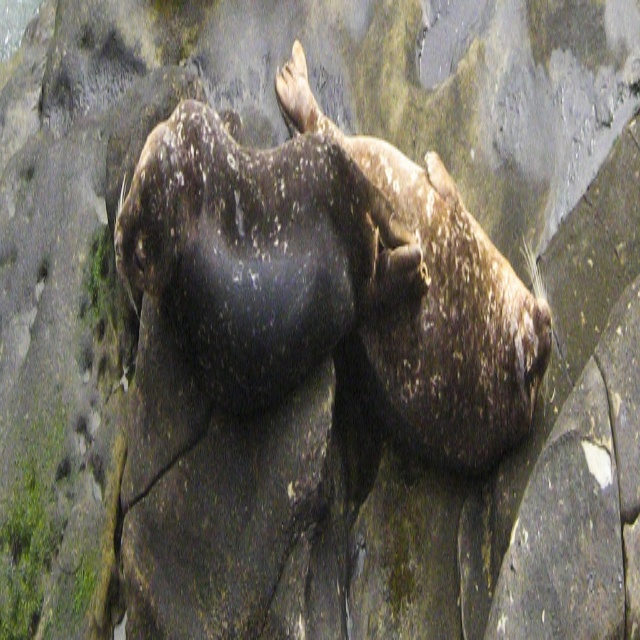Harbor seal: (112, 91, 429, 422)
